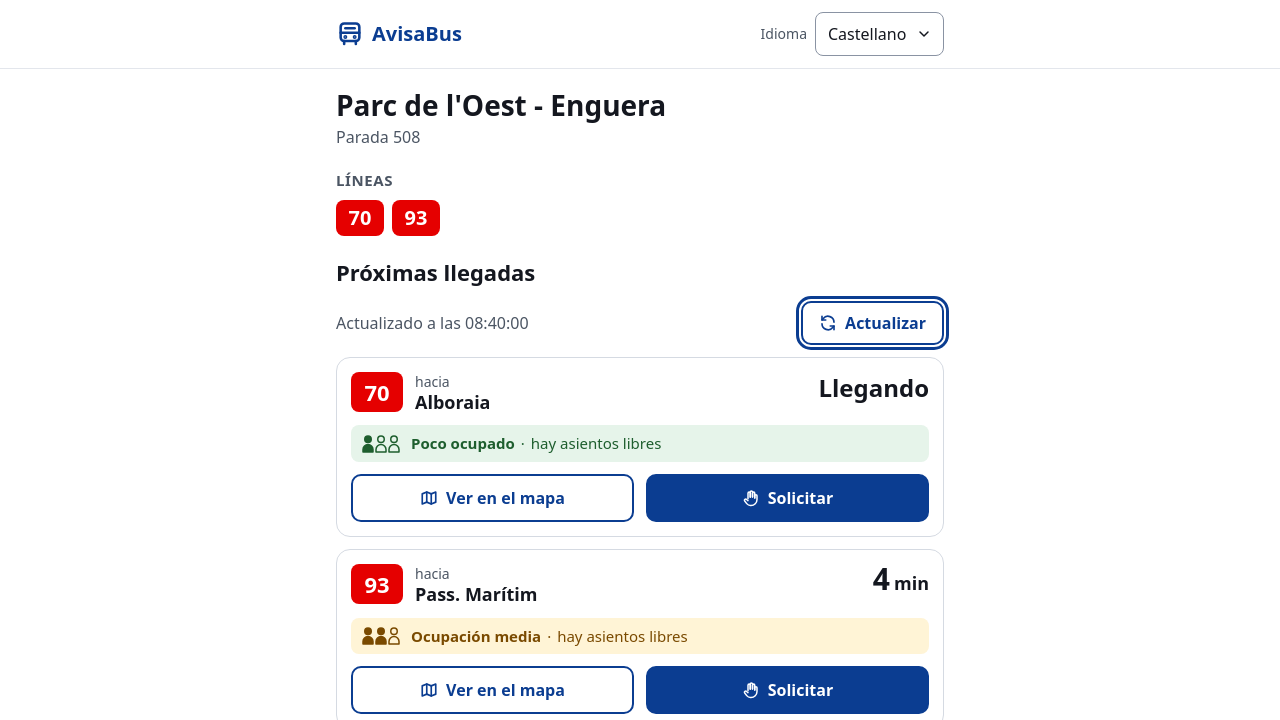
Scenario: StopPage errors and connectivity › [passenger_stop_view.AC-24] [passenger_stop_view.AC-16] "Actualizar" answered with a 404 moves the focus to the "Parada no encontrada" h1 without announcement (
Click the button "Actualizar".
click(873, 323)  # box [801, 301, 944, 345]
Wait 100 ms
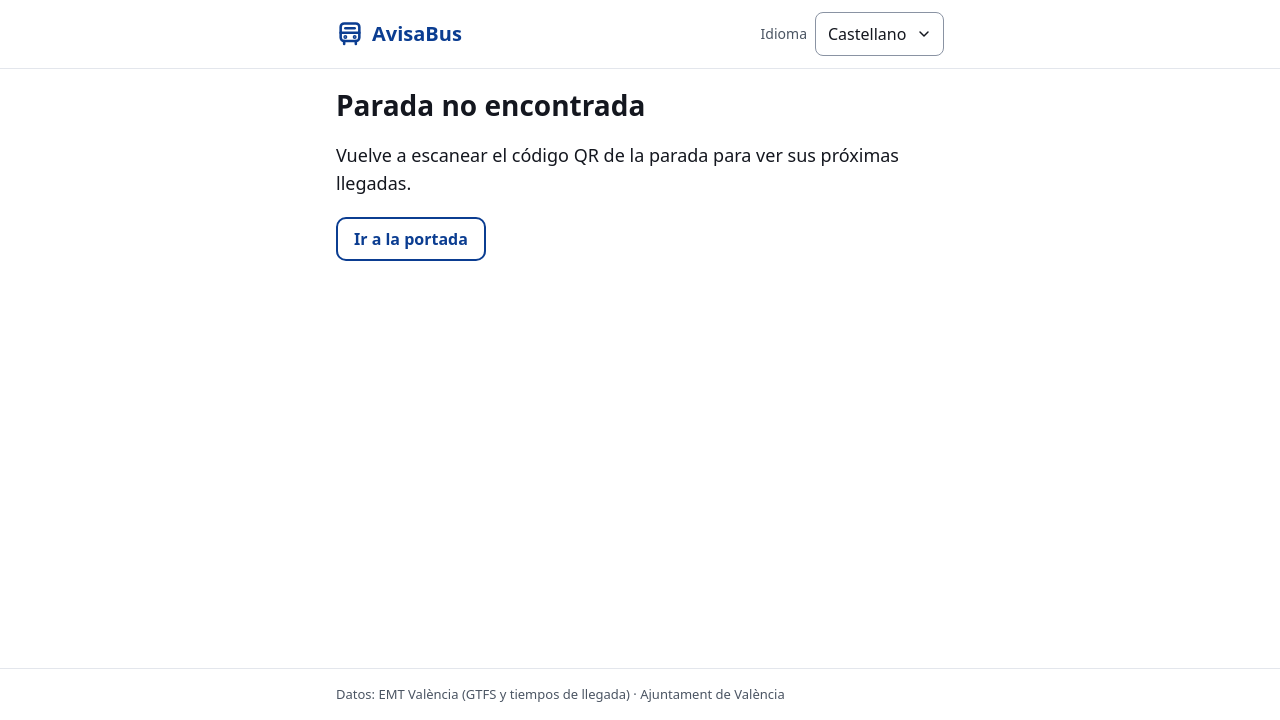
Check: the heading reads "Parada no encontrada", box [336, 86, 645, 124]
